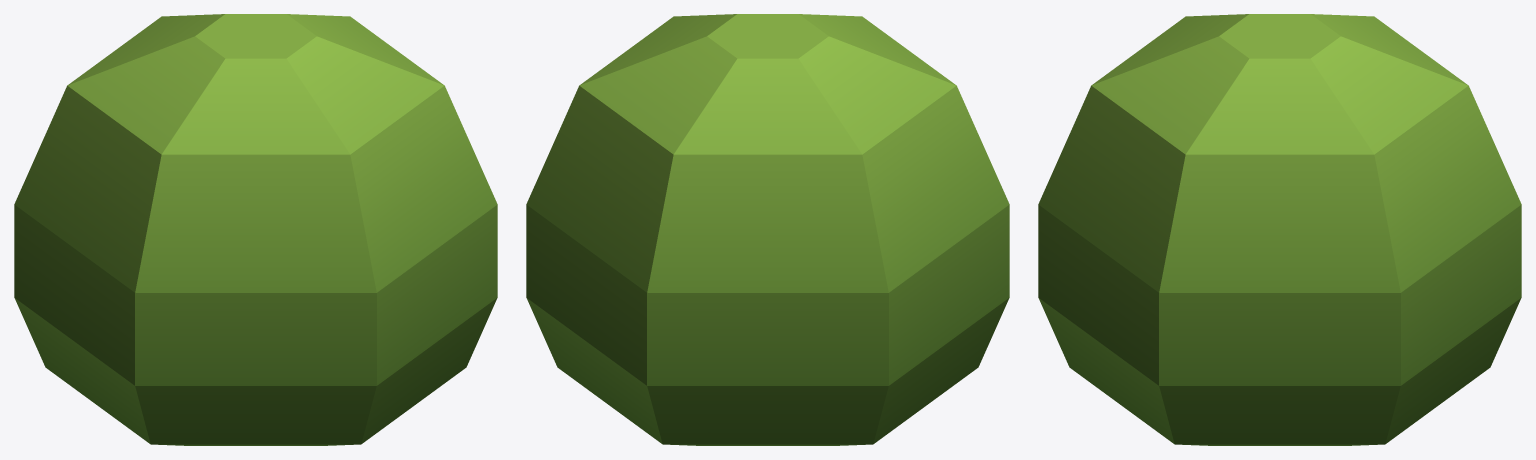
File: bush 1.fbx
3 views of the same model, side by side, from view 1: azimuth 30°, elevation 25°; view 2: azimuth 150°, elevation 25°; view 3: azimuth 270°, elevation 25° (orthographic).
Visible parts, largest first — view 1: bush_1; view 2: bush_1; view 3: bush_1.
Boxes of the visible parts, x1=… form: bush_1: x1=14, y1=14, x2=497, y2=445; bush_1: x1=526, y1=14, x2=1009, y2=445; bush_1: x1=1038, y1=14, x2=1521, y2=445.
Bounding box in the file's own units: 108 × 103 × 125.
1 material, 1 textured.
